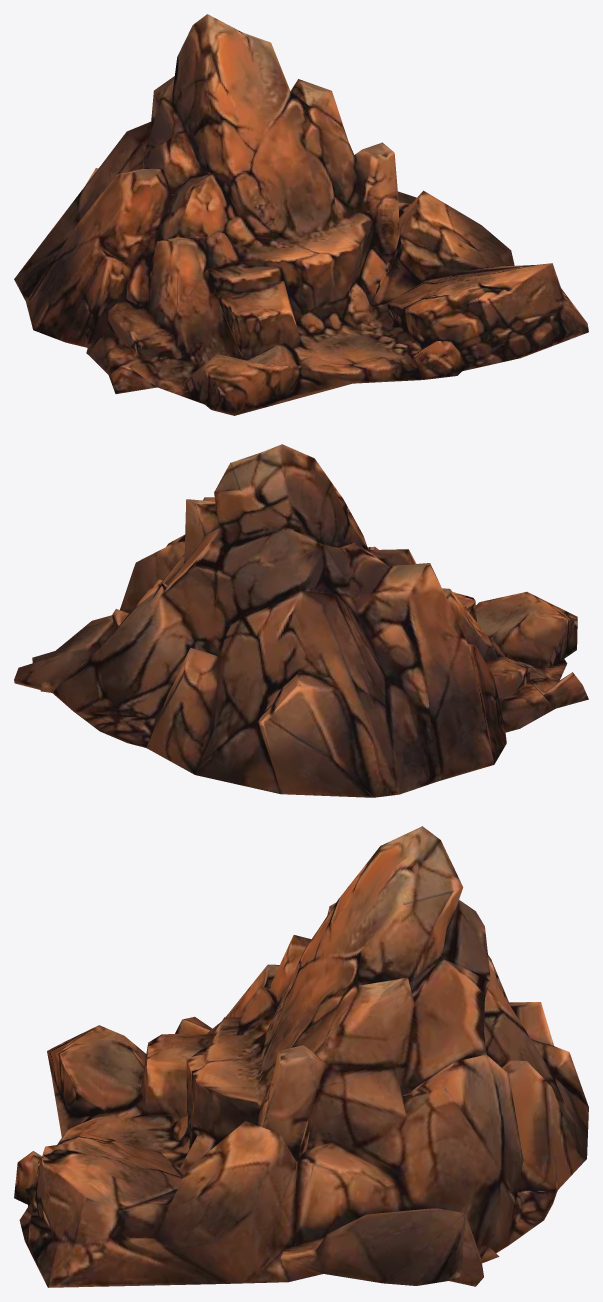
Rendered from rusty-rock-pile.glb.
3 renders of one model, top to bottom at view 1: azimuth 30°, elevation 25°; view 2: azimuth 150°, elevation 25°; view 3: azimuth 270°, elevation 25°, orthographic. The views are drawn at different scales.
Bounding box in the file's own units: 1.89 × 1.12 × 1.8.
1 material, 1 textured.
